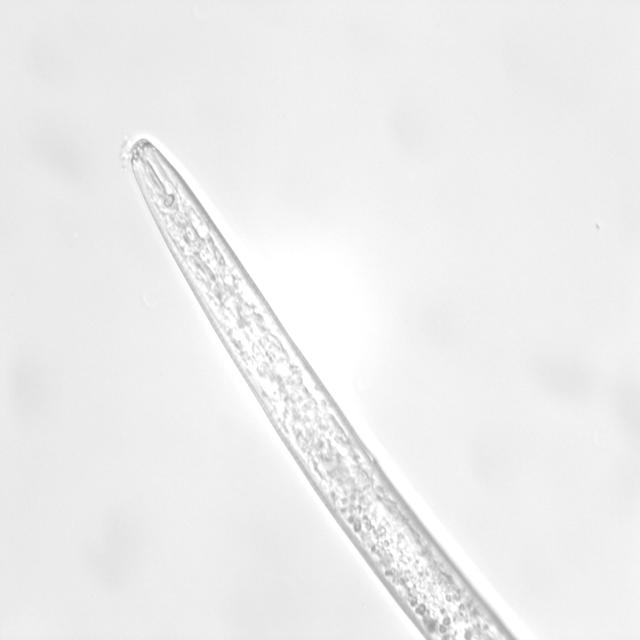Pratylenchus: (122, 132, 487, 640)
